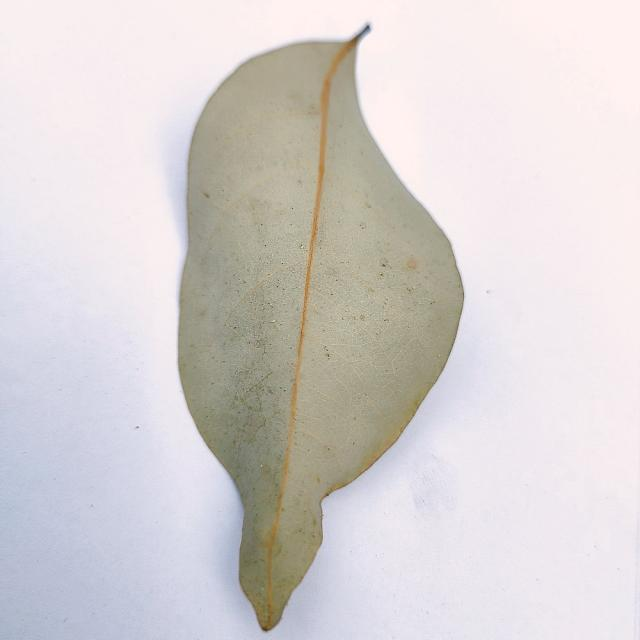Dry_Leaf-Lychee: (176, 27, 466, 633)
